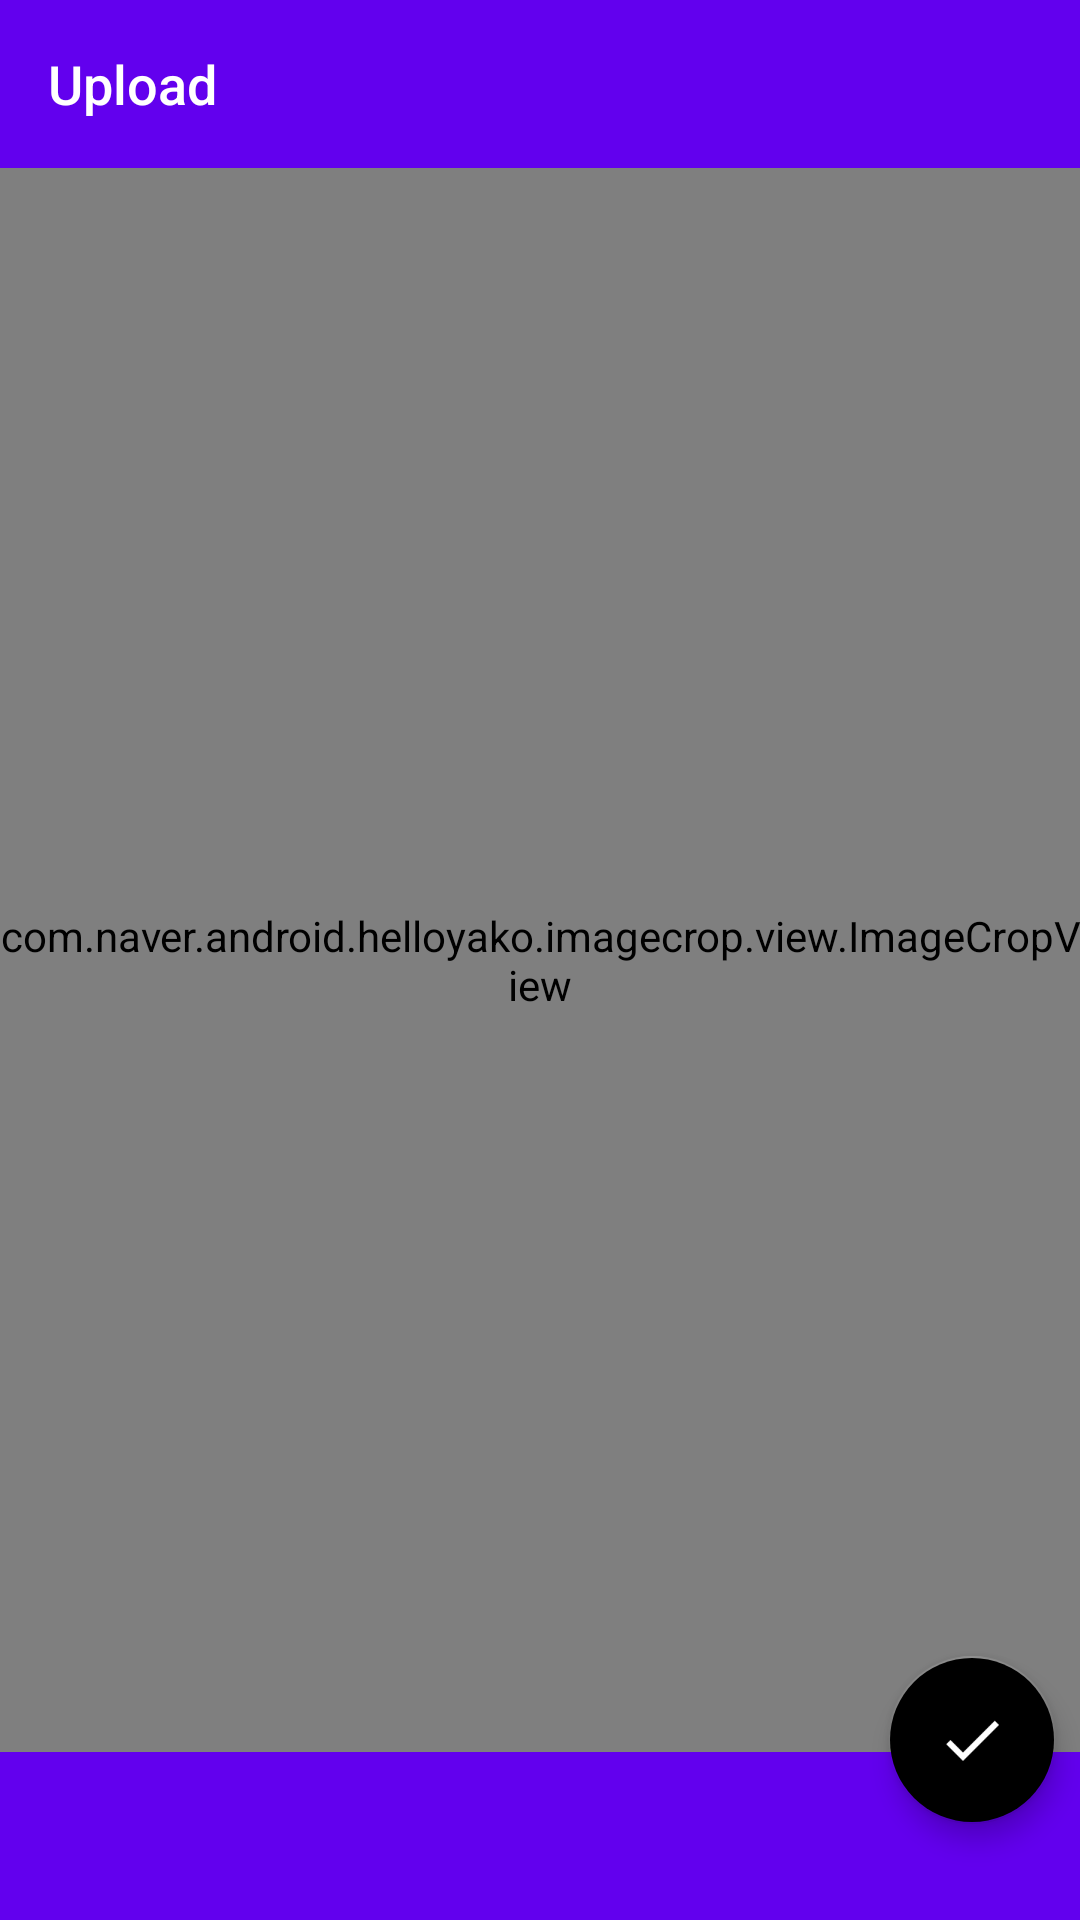

Point at icon controls on the screen. Image size 1080px x 1920px, points as (x=x, y=y).
check: (x=972, y=1740)
